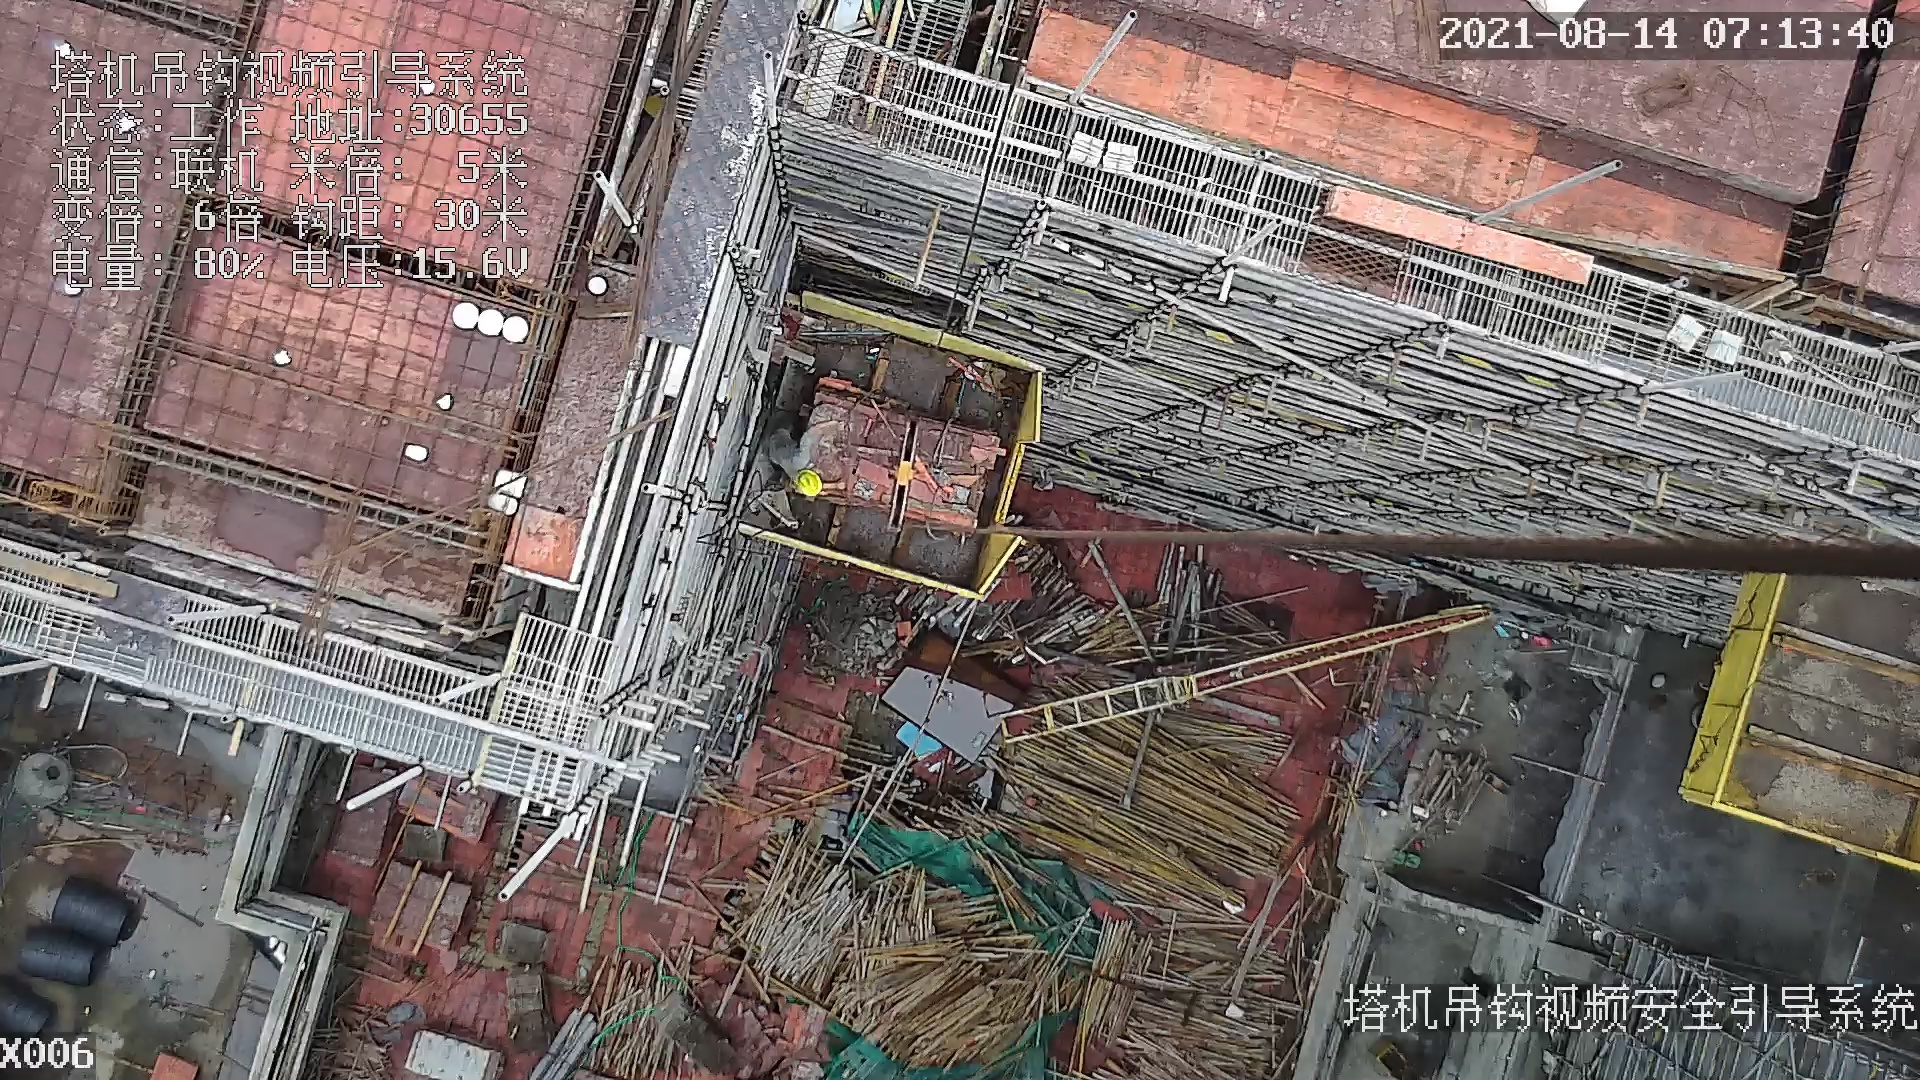helmet: (793, 467, 825, 497)
hook: (882, 413, 923, 537)
person: (762, 408, 859, 503)
